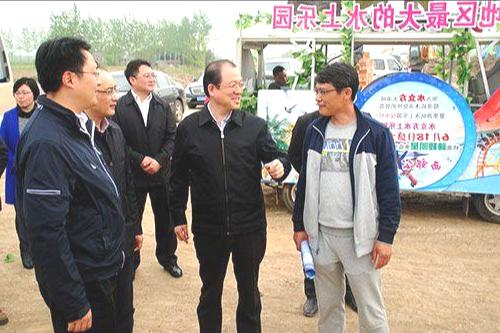no_helmet: (36, 33, 106, 109), (199, 53, 243, 114), (310, 61, 359, 115), (87, 66, 117, 120), (123, 57, 159, 96), (10, 75, 38, 112), (270, 62, 290, 85)
